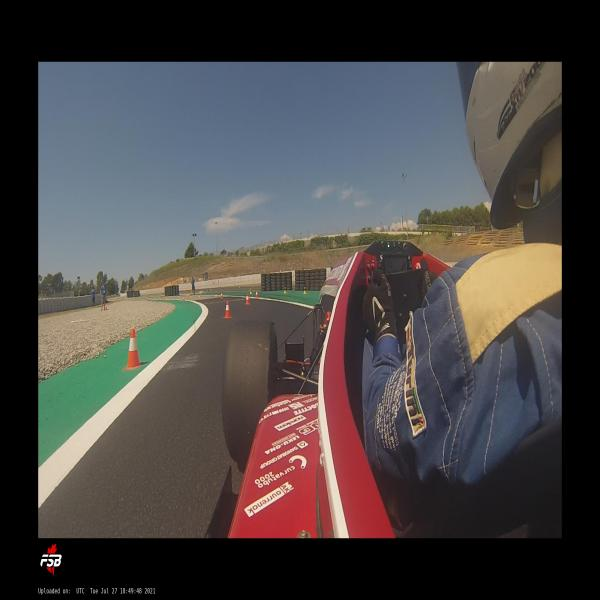orange_cone: (123, 328, 143, 370), (223, 300, 232, 319), (246, 294, 250, 305), (256, 290, 258, 298), (220, 292, 222, 299), (183, 296, 185, 301)
yellow_cone: (303, 286, 307, 295), (283, 286, 287, 294), (250, 288, 252, 294), (215, 291, 217, 297)
